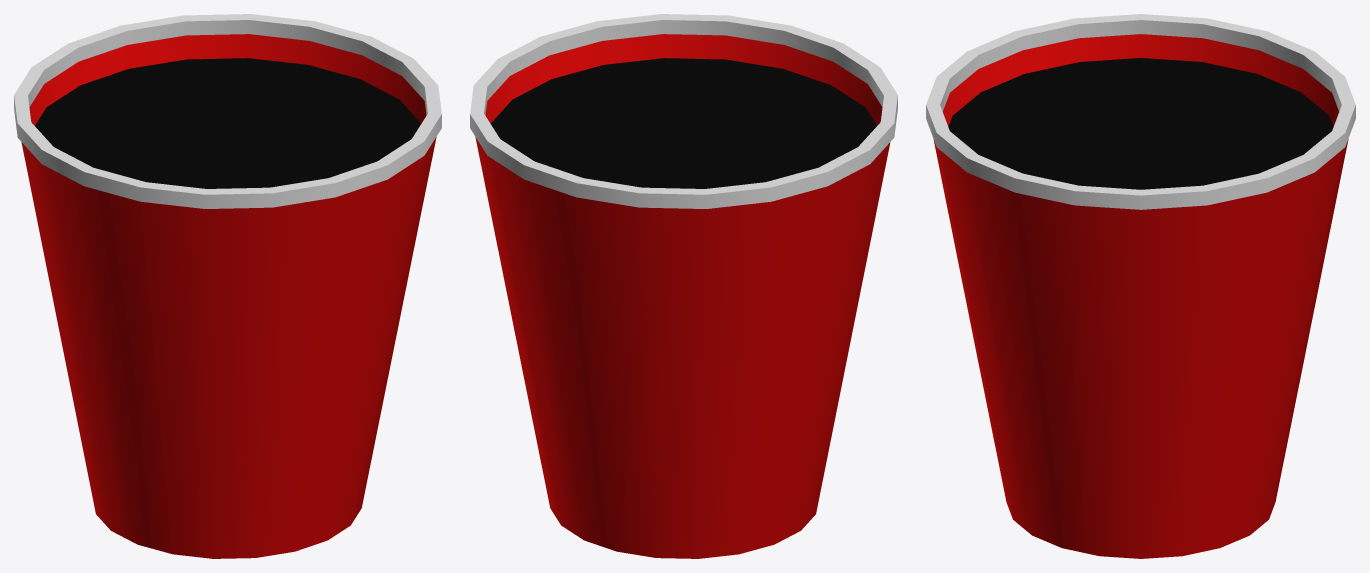
The model's file is RefrescoPreparado.fbx.
The picture shows the model from 3 angles, left to right: view 1: azimuth 30°, elevation 25°; view 2: azimuth 150°, elevation 25°; view 3: azimuth 270°, elevation 25°; orthographic projection.
Visible parts, largest first — view 1: pPipe54; view 2: pPipe54; view 3: pPipe54.
Part boxes in pixels (bbox=[...]): pPipe54: bbox=[14, 14, 441, 558]; pPipe54: bbox=[470, 14, 897, 558]; pPipe54: bbox=[926, 14, 1355, 558].
Bounding box in the file's own units: 4.35 × 4.44 × 4.35.
